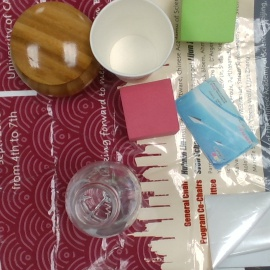bottle: (64, 161, 141, 236)
card: (176, 76, 260, 169)
chess: (12, 1, 98, 96)
cup: (90, 1, 175, 83)
